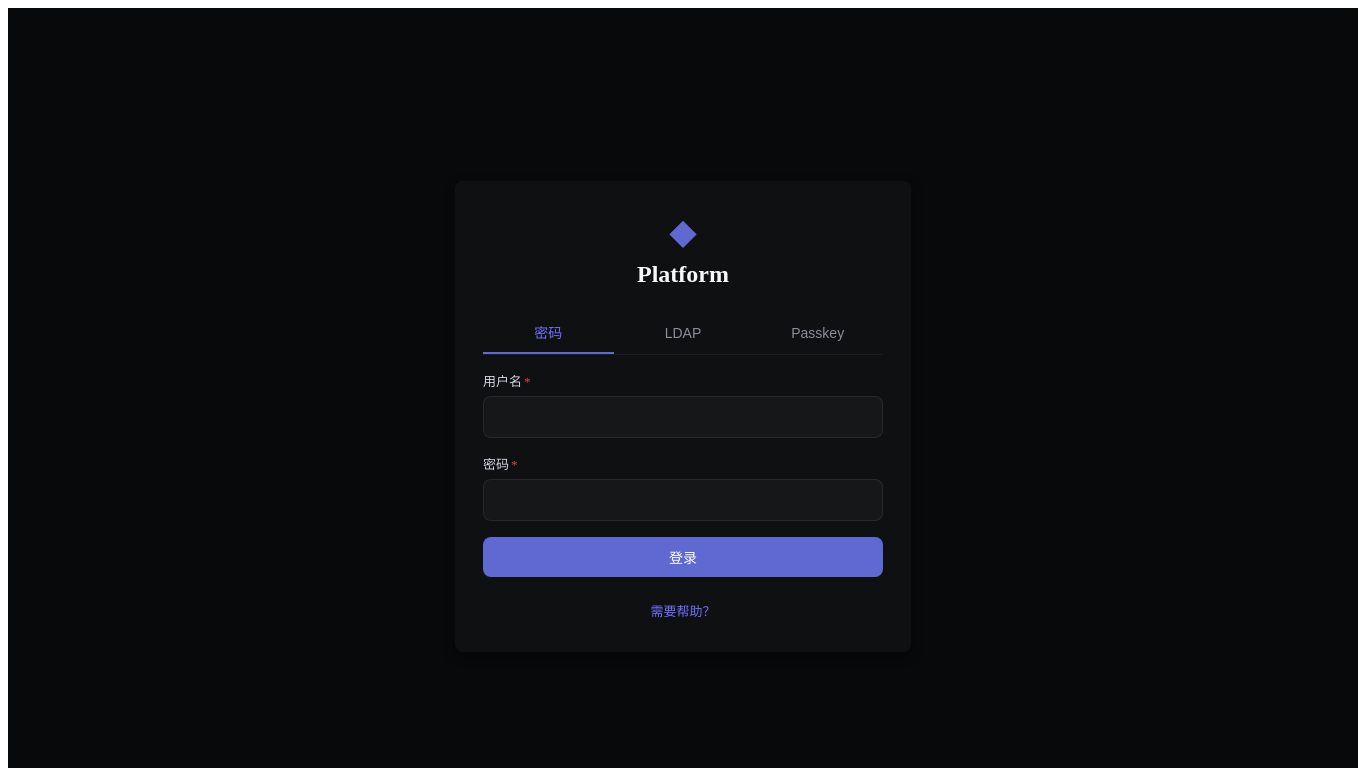
AC：登录方式 Tab（密码/LDAP/passkey） › 默认密码 Tab，可切 LDAP；passkey Tab 仅 WebAuthn 可用时渲染
Expected: the tab with class "login-tab" reads "密码", [483,312,614,354]
Expected: the tab with class "login-tab" reads "Passkey", [752,312,883,354]
# 切 LDAP 出现身份源 ID 字段
What coordinates should you click on to do the following:
click the tab with class "login-tab" showing "LDAP"
I would click on:
 (683, 332)
Its box is [618,312,748,354].
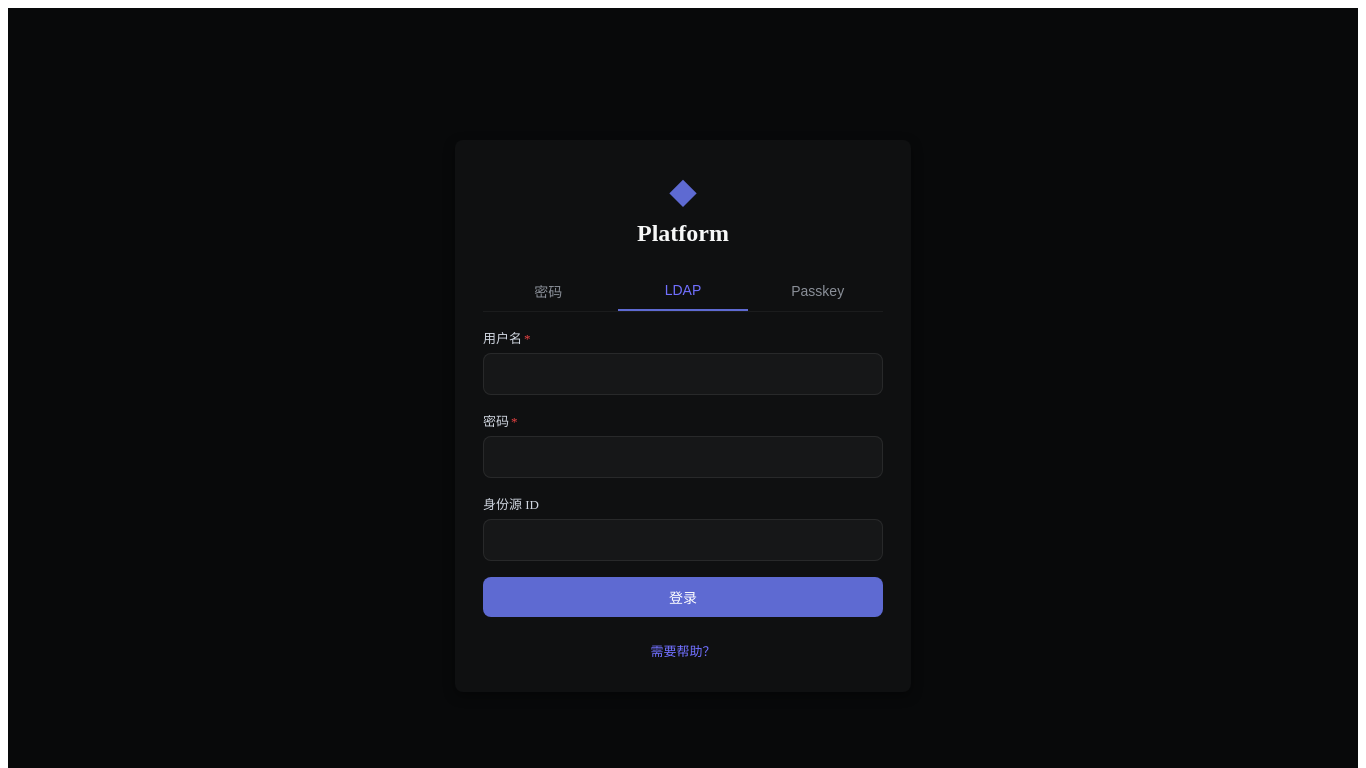
Expected: the field with test id "ldap-source-id" is shown, [483,519,883,561]
